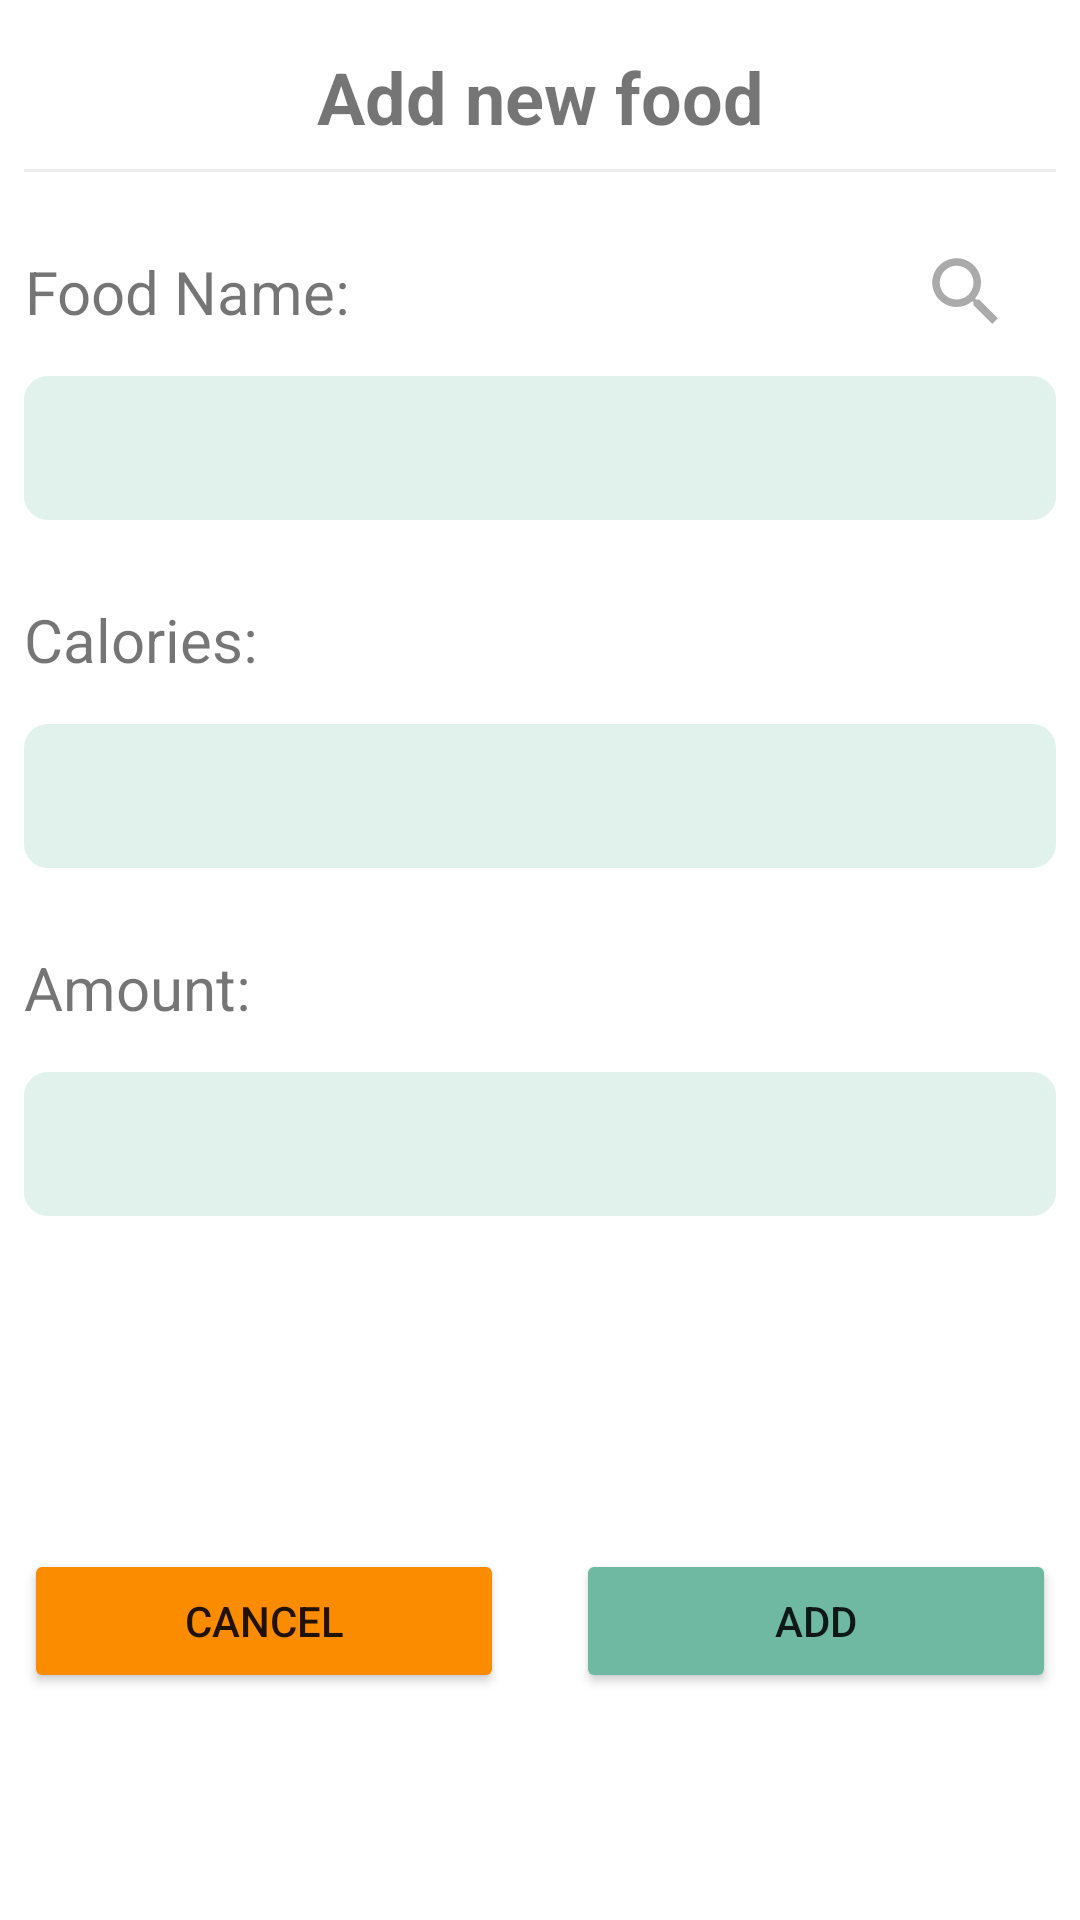

Screen size 1080px x 1920px. Icon name, then its box in pixels as (x1, y1, x2, y2):
search: (932, 258, 998, 324)
